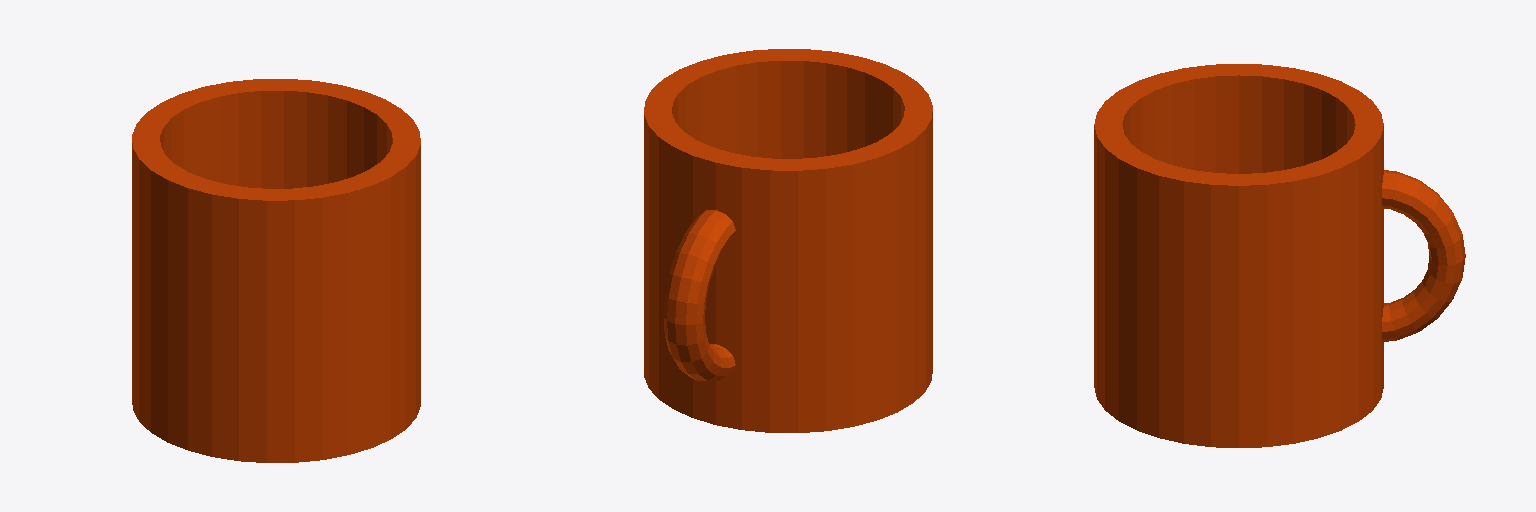
File: mug.obj
The picture shows the model from 3 angles: view 1: azimuth 30°, elevation 25°; view 2: azimuth 150°, elevation 25°; view 3: azimuth 270°, elevation 25°; orthographic projection.
Visible parts, largest first — view 1: Cylinder; view 2: Cylinder; view 3: Cylinder.
Part boxes in pixels (x1,y1,x2,y2): Cylinder: (132, 79, 420, 462); Cylinder: (644, 49, 932, 432); Cylinder: (1094, 64, 1465, 447).
Bounding box in the file's own units: 0.3355 × 0.3355 × 0.4302.